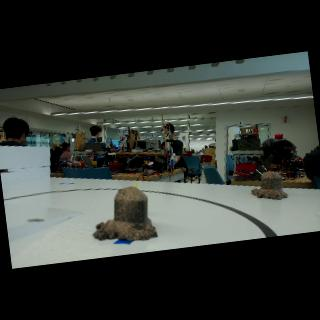teletubby: (135, 183, 137, 188)
